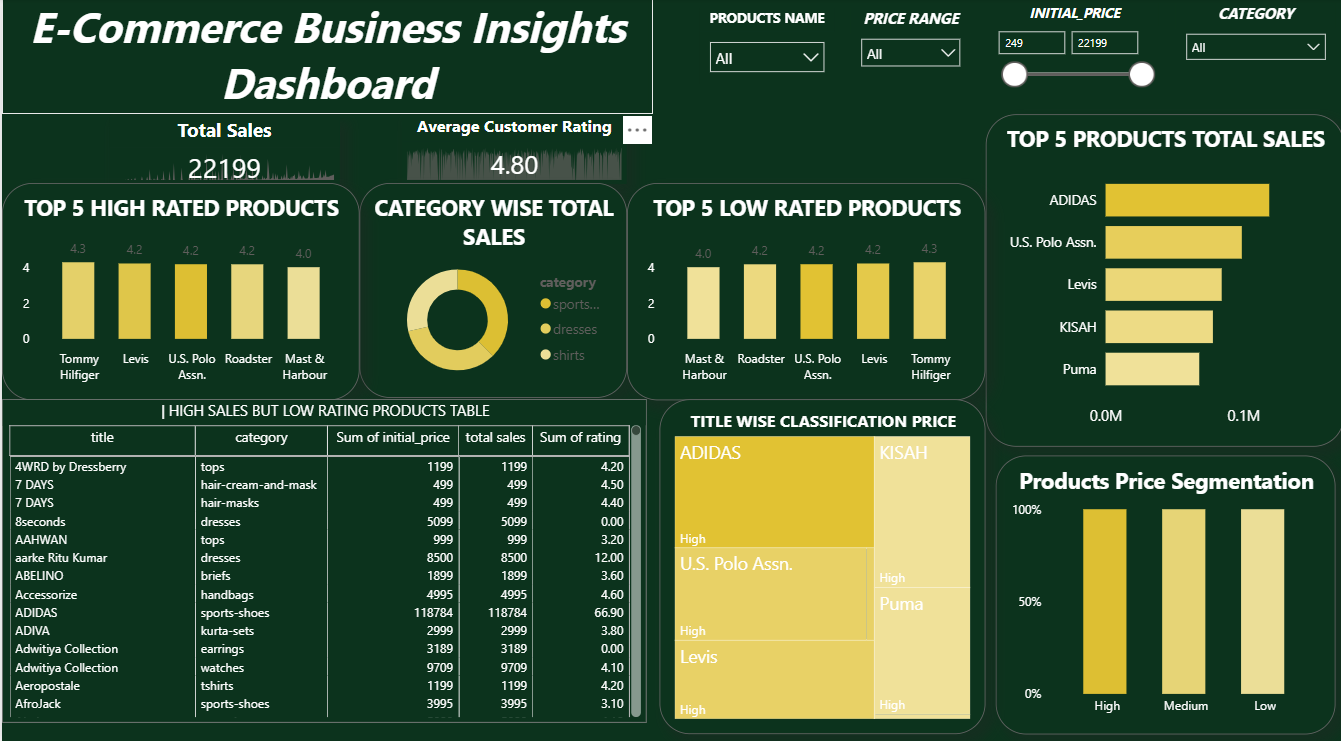

The page's visual inventory and layout, read from the dashboard file:
{"tool":"powerbi","page":{"name":"Page 1","canvas":[1324,736],"ordinal":0},"visuals":[{"type":"kpi","title":"Total Sales","fields":{"Indicator":["ecommerece.total sales"],"TrendLine":["ecommerece.initial_price"]},"box":[106.1,117.2,226.9,66.6],"z":0},{"type":"kpi","title":"Average Customer Rating","fields":{"Indicator":["ecommerece.Avg Rating"],"TrendLine":["ecommerece.title"]},"box":[394.6,114.7,222,69.1],"z":1000},{"type":"slicer","title":"PRODUCTS NAME","fields":{"Values":["ecommerece.title"]},"box":[688.2,9.9,133.2,75.2],"z":2000},{"type":"clusteredBarChart","title":"TOP 5 PRODUCTS TOTAL SALES ","fields":{"Category":["ecommerece.title"],"Y":["ecommerece.total sales"]},"box":[970.6,114.7,353.9,328],"z":3000},{"type":"donutChart","title":"CATEGORY WISE TOTAL SALES","fields":{"Category":["ecommerece.category"],"Y":["ecommerece.total sales"]},"box":[352.7,182.5,263.9,212.1],"z":4000},{"type":"clusteredColumnChart","title":"TOP 5 HIGH RATED PRODUCTS","fields":{"Category":["ecommerece.title"],"Y":["ecommerece.Avg Rating"]},"box":[0,182.5,352.7,214.6],"z":5000},{"type":"clusteredColumnChart","title":"TOP 5 LOW RATED PRODUCTS","fields":{"Category":["ecommerece.title"],"Y":["ecommerece.Avg Rating"]},"box":[616.6,182.5,353.9,214.6],"z":6000},{"type":"hundredPercentStackedColumnChart","title":"Products Price Segmentation","fields":{"Category":["ecommerece.Price Range"],"Y":["ecommerece.total sales"]},"box":[980.4,451.4,335.4,275],"z":7000},{"type":"treemap","title":"TITLE WISE CLASSIFICATION PRICE","fields":{"Group":["ecommerece.title"],"Values":["Sum(ecommerece.initial_price)"],"Details":["ecommerece.Price Category"]},"box":[648.7,395.9,321.9,330.5],"z":8000},{"type":"textbox","title":"E-Commerce Business Insights Dashboard","box":[0,0,642.5,114.7],"z":9000},{"type":"slicer","title":"CATEGORY","fields":{"Values":["ecommerece.category"]},"box":[1158,4.9,157.9,75.2],"z":10000},{"type":"slicer","title":"INITIAL_PRICE","fields":{"Values":["ecommerece.initial_price"]},"box":[970.6,4.9,175.1,87.6],"z":11000},{"type":"tableEx","title":"| HIGH SALES BUT LOW RATING PRODUCTS TABLE   ","fields":{"Values":["ecommerece.title","ecommerece.category","Sum(ecommerece.initial_price)","ecommerece.total sales","Sum(ecommerece.rating)"]},"box":[0,395.9,636.4,319.4],"z":12000},{"type":"slicer","title":"PRICE RANGE","fields":{"Values":["ecommerece.Price Range"]},"box":[837.4,9.9,118.4,75.2],"z":13000}]}

Visuals, with their boxes in screenshot pixels (x1, y1, x2, y2), scaled from the page's 1324x736 canvas onto the 1341x741 screenshot:
"Total Sales" kpi: l=107, t=118, r=337, b=185
"Average Customer Rating" kpi: l=400, t=115, r=625, b=185
"PRODUCTS NAME" slicer: l=697, t=10, r=832, b=86
"TOP 5 PRODUCTS TOTAL SALES " clusteredBarChart: l=983, t=115, r=1340, b=446
"CATEGORY WISE TOTAL SALES" donutChart: l=357, t=184, r=625, b=397
"TOP 5 HIGH RATED PRODUCTS" clusteredColumnChart: l=0, t=184, r=357, b=400
"TOP 5 LOW RATED PRODUCTS" clusteredColumnChart: l=625, t=184, r=983, b=400
"Products Price Segmentation" hundredPercentStackedColumnChart: l=993, t=454, r=1333, b=731
"TITLE WISE CLASSIFICATION PRICE" treemap: l=657, t=399, r=983, b=731
"E-Commerce Business Insights Dashboard" textbox: l=0, t=0, r=651, b=115
"CATEGORY" slicer: l=1173, t=5, r=1333, b=81
"INITIAL_PRICE" slicer: l=983, t=5, r=1160, b=93
"| HIGH SALES BUT LOW RATING PRODUCTS TABLE   " tableEx: l=0, t=399, r=645, b=720
"PRICE RANGE" slicer: l=848, t=10, r=968, b=86
